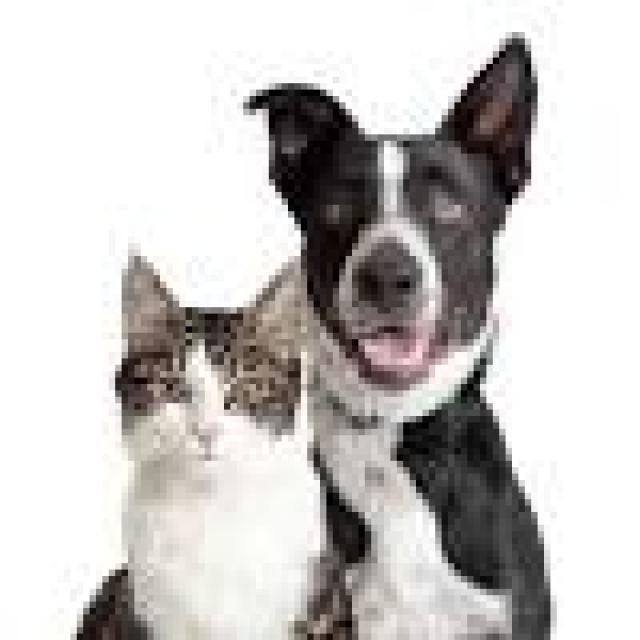cat: (113, 240, 332, 640)
dog: (220, 31, 554, 640)
